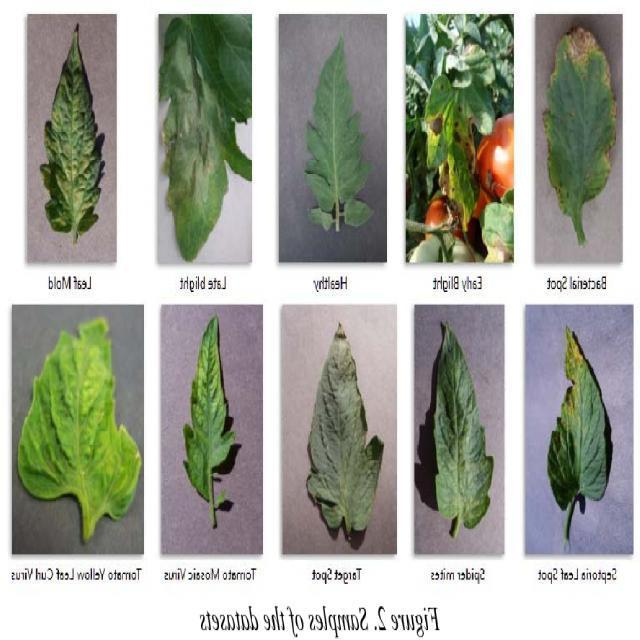Healthy Leaf: (298, 33, 370, 243)
Yellow Curl Virus: (19, 316, 142, 542)
